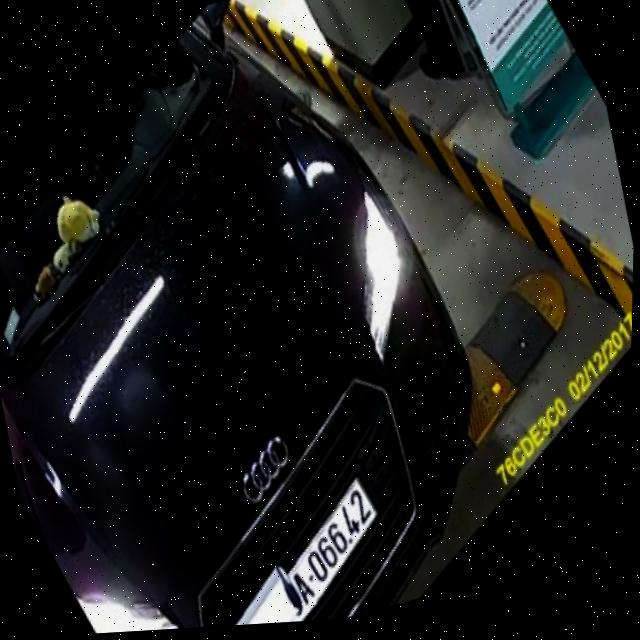car: (0, 0, 528, 640)
plate: (245, 471, 404, 625)
